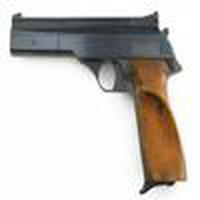gun: (12, 9, 199, 196)
